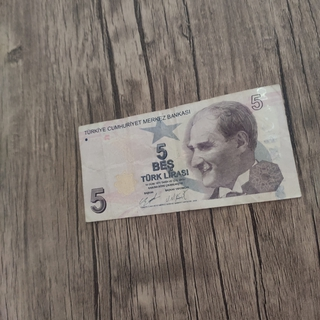5TLFront: (77, 84, 302, 223)
